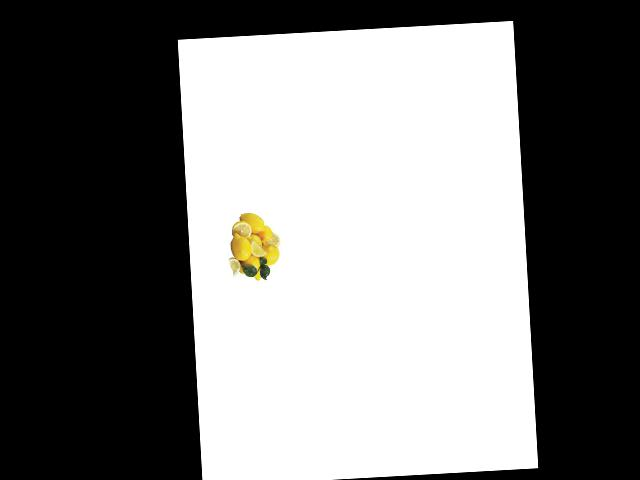lemon: (238, 251, 261, 275)
